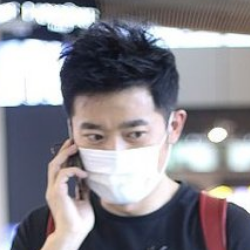mask: (70, 136, 167, 208)
